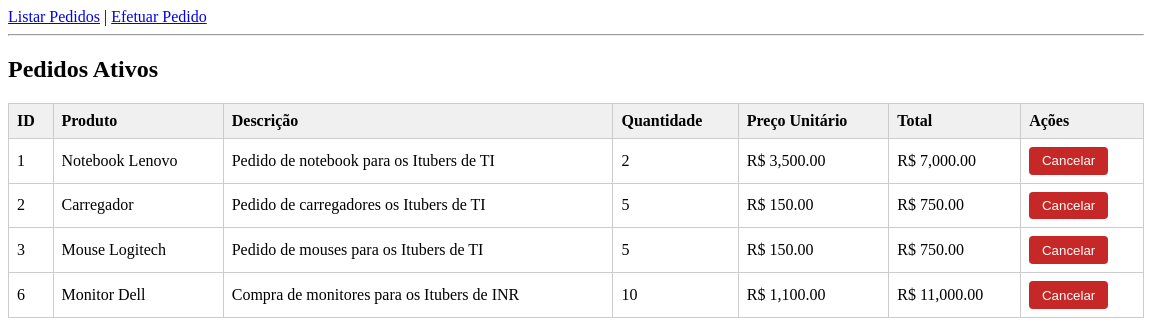
it: Listar Pedidos › Deve cancelar um pedido com sucesso
Click the button "Cancelar" in the row of "Notebook Lenovo": (1069, 161) [1029,147,1108,175]
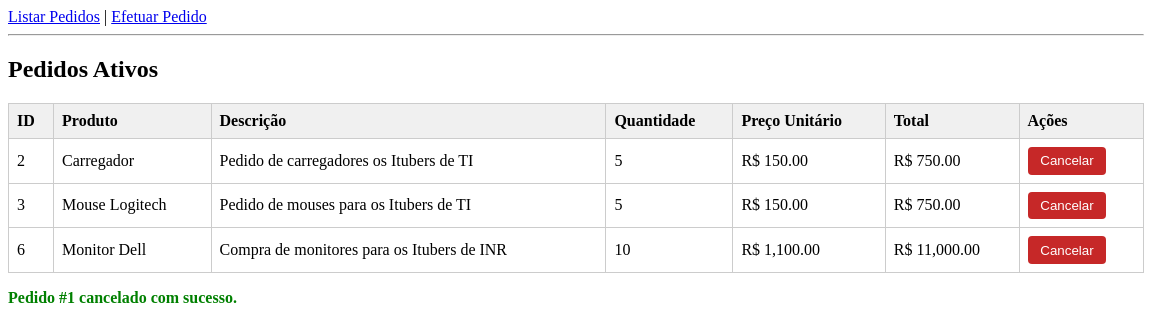
Expected: the text "cancelado com sucesso" is shown, [8,289,237,306]
